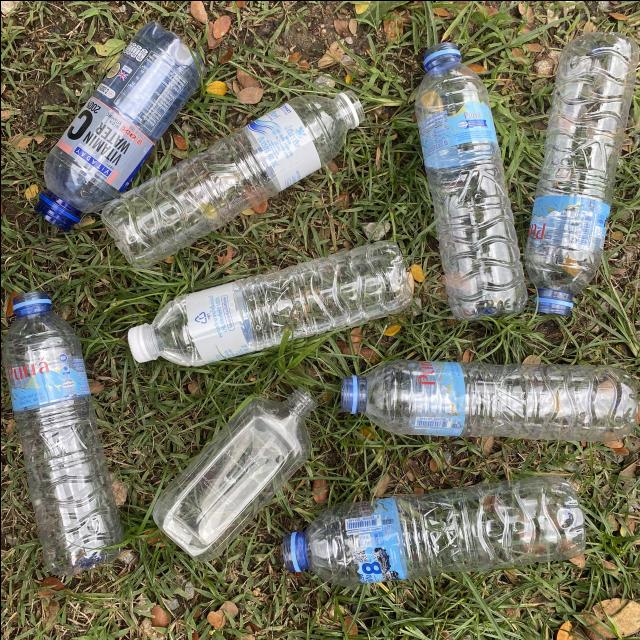plastik: (101, 90, 364, 267), (34, 20, 203, 230), (128, 240, 411, 365), (1, 291, 121, 574), (282, 475, 585, 585), (524, 32, 638, 315), (413, 42, 527, 318), (152, 388, 314, 561), (340, 359, 637, 440)
